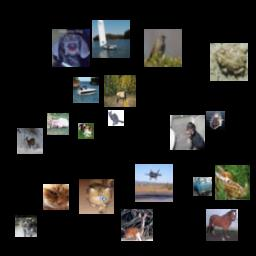airplane: (135, 164, 173, 202)
bird: (144, 29, 182, 67)
cat: (79, 179, 114, 214), (43, 184, 69, 210), (108, 110, 124, 126), (78, 123, 94, 139)
deer: (215, 165, 250, 200), (121, 209, 153, 241), (104, 75, 136, 107), (17, 128, 43, 154), (47, 113, 69, 135)
dog: (52, 29, 90, 67), (170, 115, 205, 150), (15, 215, 37, 237)
frog: (210, 43, 248, 81)
ship: (92, 20, 130, 58), (73, 77, 99, 103), (206, 111, 225, 130)
truck: (193, 177, 212, 196)
